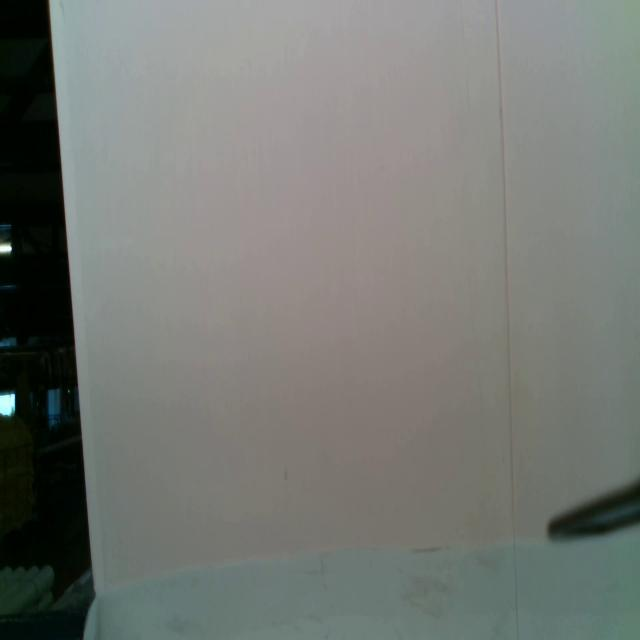crease: (494, 0, 520, 640), (459, 1, 474, 126)
